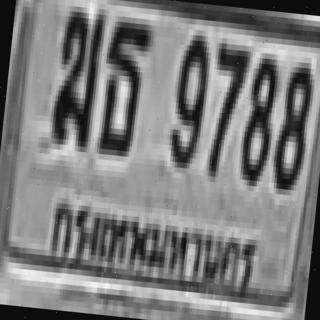A06: (48, 2, 104, 145)
A24: (94, 15, 150, 152)
N07: (203, 38, 247, 173)
N08: (269, 55, 314, 186), (237, 52, 277, 182)
N09: (165, 28, 211, 164)
P04: (39, 187, 264, 311)
